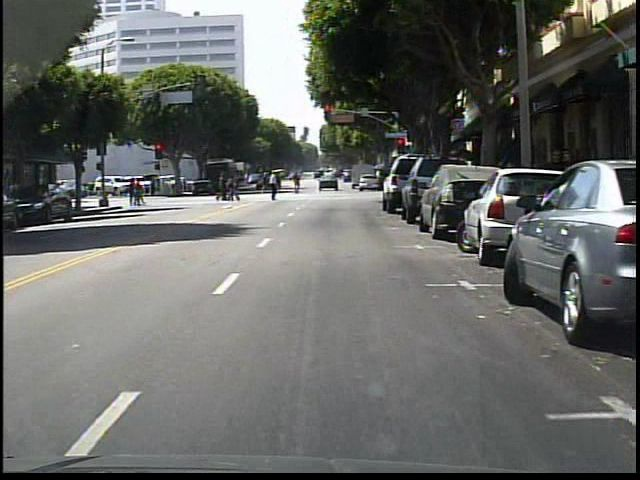person: (263, 168, 285, 205), (288, 169, 306, 198)
